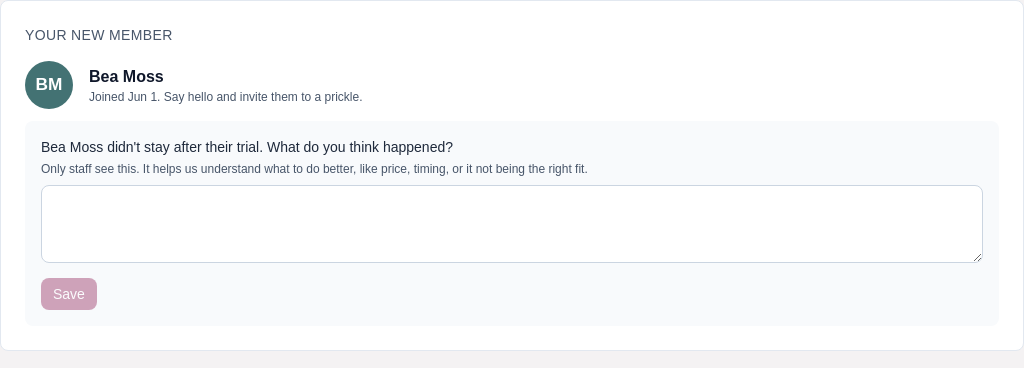
Test: BigSisterCards › asks a big sister why a trial didn't continue, and saves what she writes
Expected: the text "Bea Moss didn't stay after their trial" is shown, [41,139,453,155]
In the text box: [512, 224] box [41,185,983,263], type "the price"
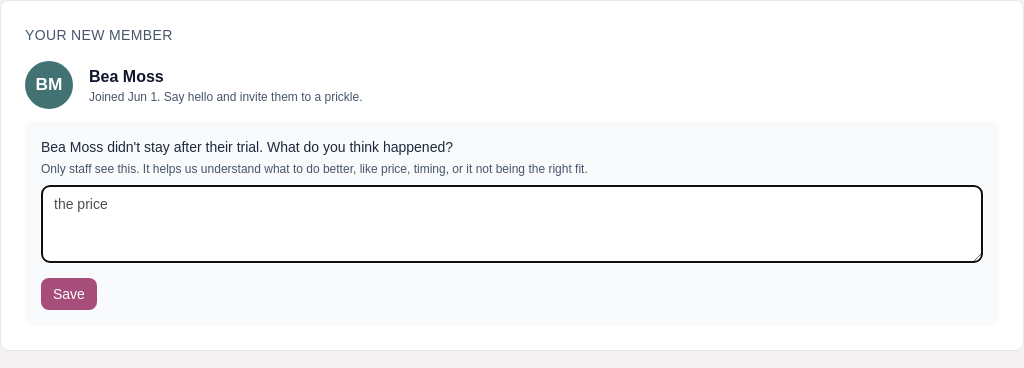
Click the button "Save": [69, 294] box [41,278,97,310]
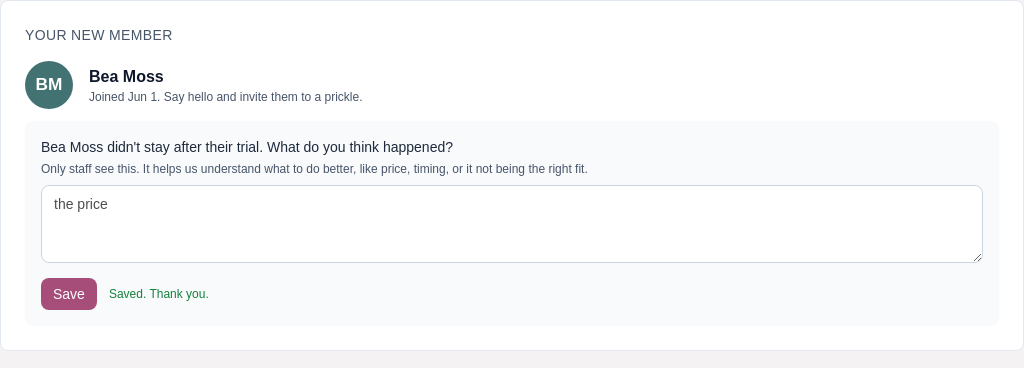
Result: the text "Saved. Thank you." is shown at [109,286,209,302]
